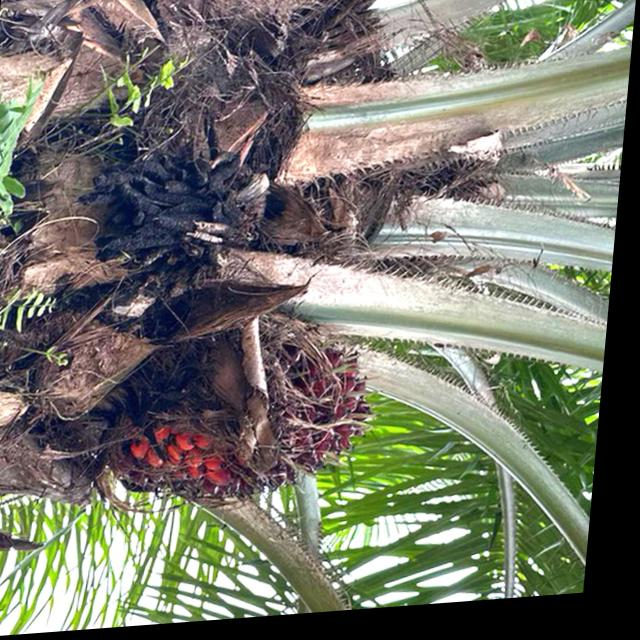ripe: (106, 309, 392, 515)
